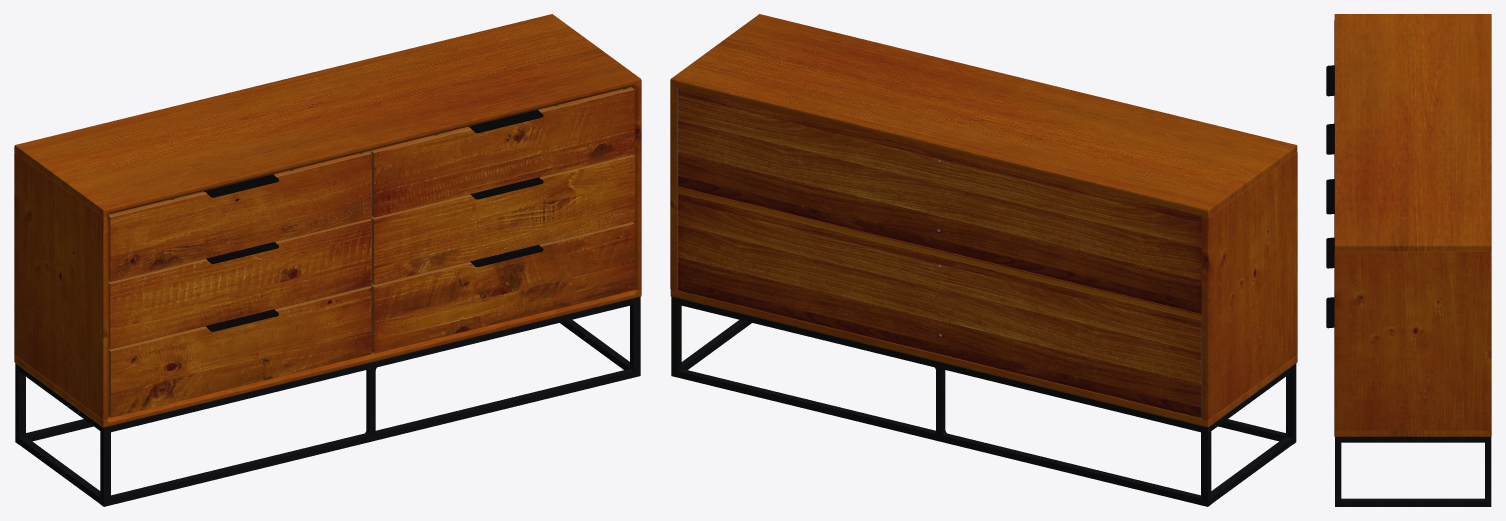
File: abo-B075YZ16V7.glb
3 views of the same model, side by side, from view 1: azimuth 30°, elevation 25°; view 2: azimuth 150°, elevation 25°; view 3: azimuth 270°, elevation 25° (orthographic). The views are drawn at different scales.
Bounding box in the file's own units: 1.54 × 0.81 × 0.464.
Materials: 1 (1 with a texture image).
